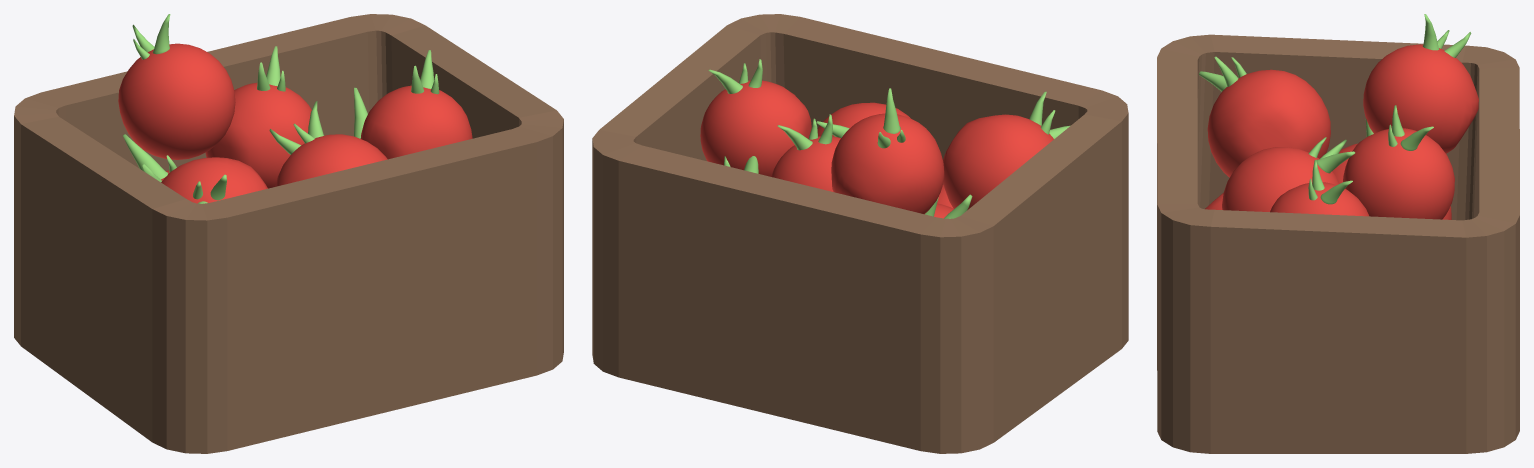
File: TomatoBoxFrontFilled.fbx
3 views of the same model, side by side, from view 1: azimuth 30°, elevation 25°; view 2: azimuth 150°, elevation 25°; view 3: azimuth 270°, elevation 25° (orthographic). The views are drawn at different scales.
Visible parts, largest first — view 1: FrontBox01, FrontBox03.008, FrontBox03.005, FrontBox03.009, FrontBox03.003, FrontBox03.007, TomatoGreens.084; view 2: FrontBox01, FrontBox03.008, FrontBox03.009, FrontBox03.007, FrontBox03.005, FrontBox03.003; view 3: FrontBox01, FrontBox03.007, FrontBox03.008, FrontBox03.005, FrontBox03.003, FrontBox03.009, TomatoGreens.090, TomatoGreens.096, TomatoGreens.105.
Part boxes in pixels (x1,y1,x2,y2): FrontBox01: [14, 14, 563, 453]; FrontBox03.008: [118, 43, 235, 159]; FrontBox03.005: [205, 82, 311, 188]; FrontBox03.009: [360, 85, 472, 159]; FrontBox03.003: [275, 134, 387, 186]; FrontBox03.007: [161, 157, 267, 203]; TomatoGreens.084: [123, 134, 167, 179]; FrontBox01: [592, 14, 1128, 453]; FrontBox03.008: [831, 113, 944, 214]; FrontBox03.009: [700, 80, 811, 176]; FrontBox03.007: [943, 114, 1053, 209]; FrontBox03.005: [771, 136, 840, 191]; FrontBox03.003: [817, 102, 910, 136]; FrontBox01: [1157, 34, 1519, 453]; FrontBox03.007: [1207, 69, 1330, 177]; FrontBox03.008: [1363, 44, 1478, 153]; FrontBox03.005: [1343, 128, 1454, 219]; FrontBox03.003: [1222, 147, 1339, 211]; FrontBox03.009: [1270, 182, 1368, 216]; TomatoGreens.090: [1316, 151, 1355, 173]; TomatoGreens.096: [1400, 126, 1433, 150]; TomatoGreens.105: [1422, 14, 1439, 50].
Size of the model in its own units: 93.85 by 70.17 by 74.87.
